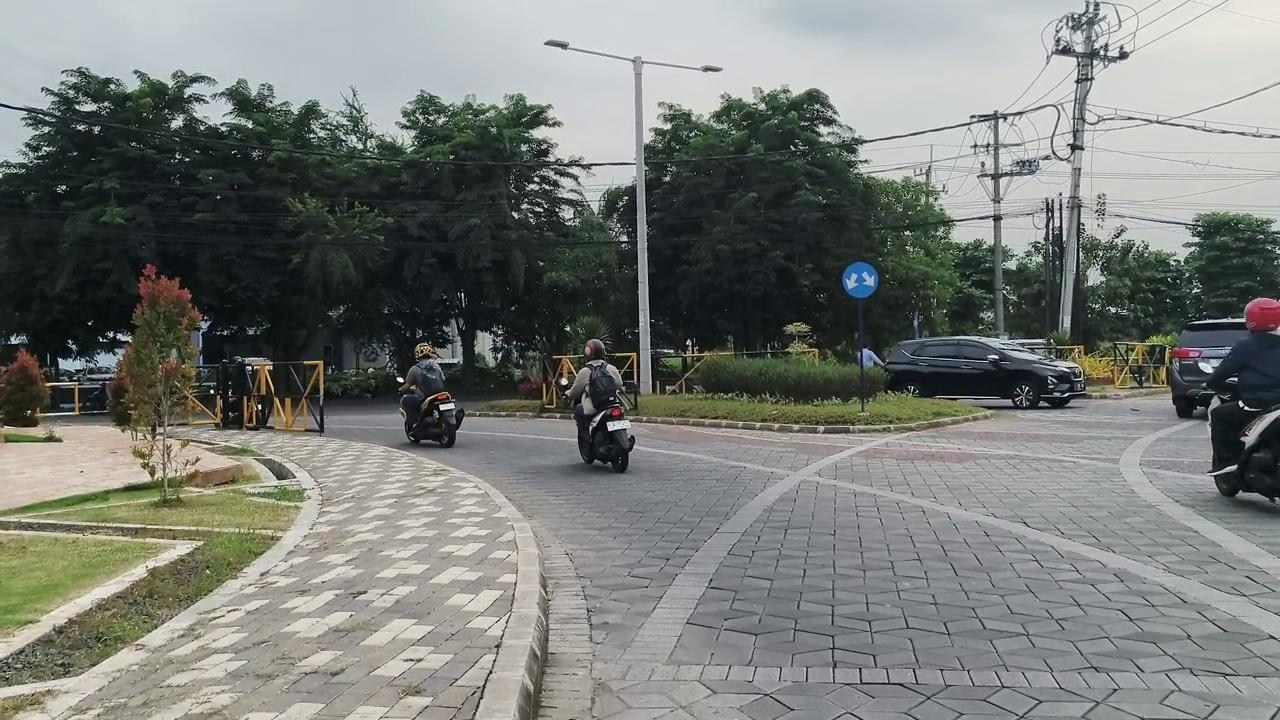Helmet: (1205, 298, 1279, 474), (565, 339, 622, 438), (399, 343, 444, 427)
Motor: (1213, 407, 1279, 502), (578, 401, 634, 472), (400, 392, 464, 447)
